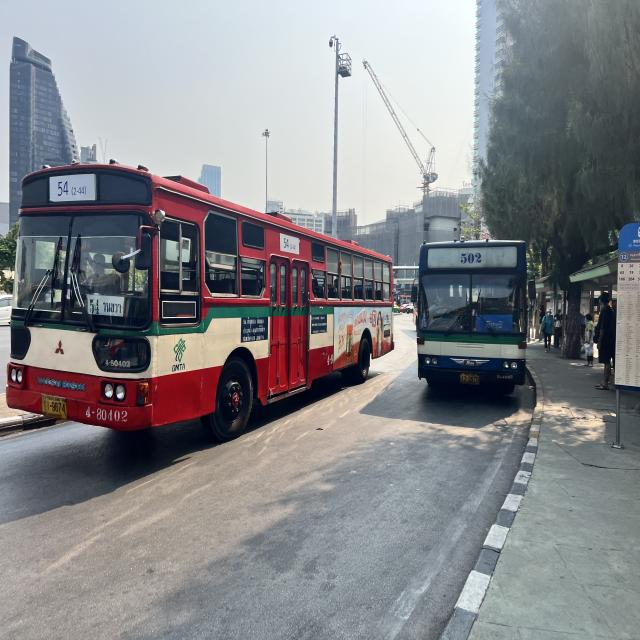BMTA-bus: (4, 161, 395, 442), (412, 240, 530, 400)
Bus-Line-Number: (53, 170, 91, 202), (458, 248, 486, 267)
Destination-Sign-Normal: (86, 293, 126, 319), (476, 314, 513, 334)
